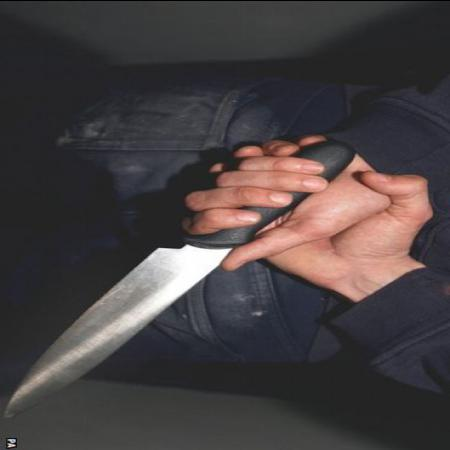long weapon: (2, 132, 372, 426)
